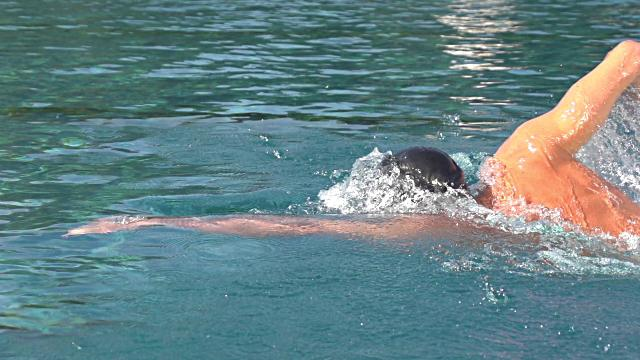swimmer: (69, 38, 640, 268)
